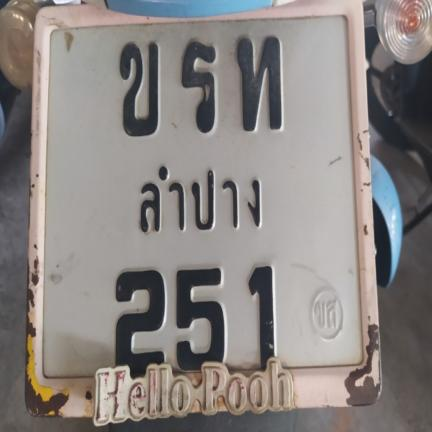1: (241, 255, 279, 371)
2: (110, 263, 169, 372)
5: (176, 260, 234, 372)
A02: (117, 32, 160, 140)
A23: (229, 31, 287, 136)
A35: (173, 30, 223, 143)
LPG: (126, 158, 266, 236)
